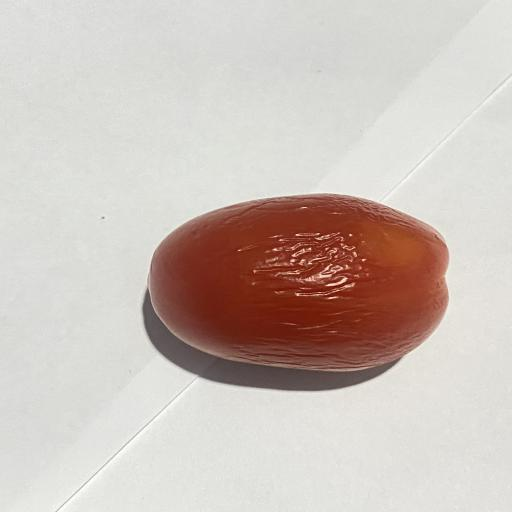spoiled: (148, 195, 448, 371)
